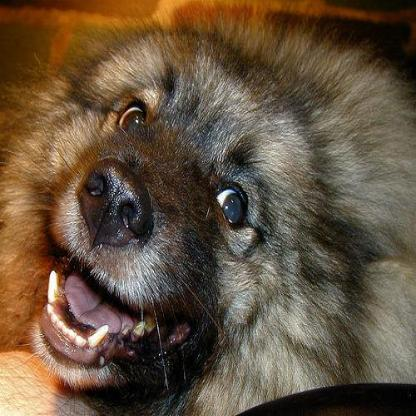keeshond: (5, 8, 410, 412)
